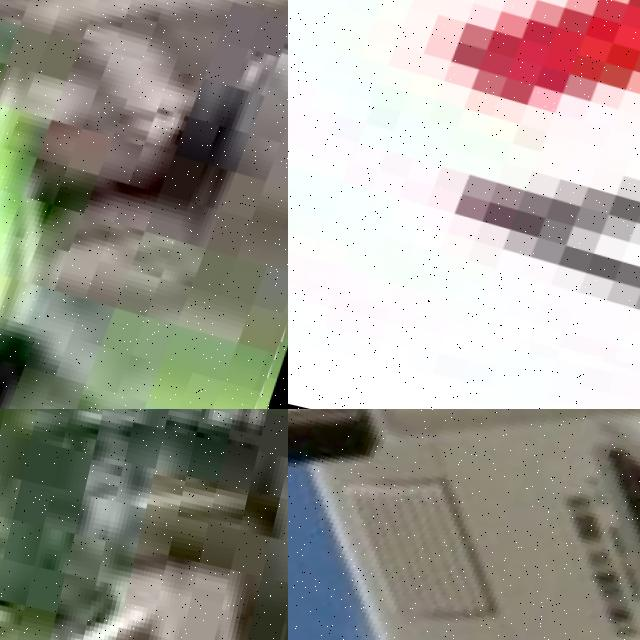drone: (288, 0, 640, 380), (0, 0, 288, 409), (288, 409, 640, 640)
